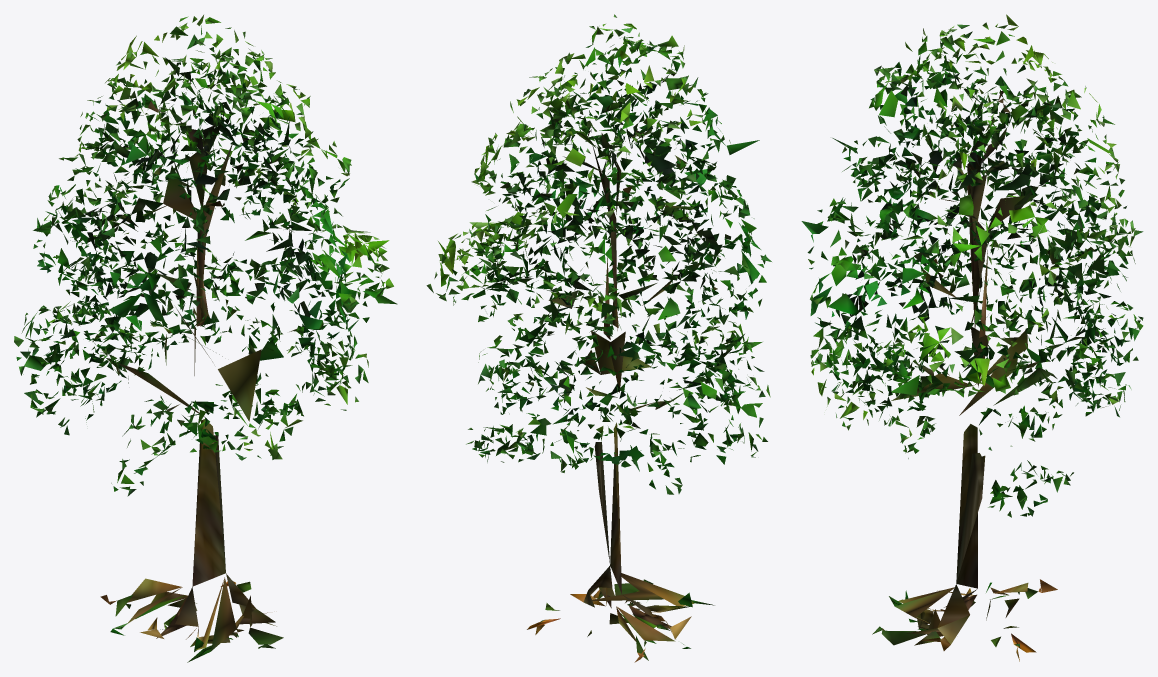
The model's file is meshy-tree-m0.glb.
The picture shows the model from 3 angles, left to right: view 1: azimuth 30°, elevation 25°; view 2: azimuth 150°, elevation 25°; view 3: azimuth 270°, elevation 25°; orthographic projection.
Visible parts, largest first — view 1: Mesh_0; view 2: Mesh_0; view 3: Mesh_0.
Part boxes in pixels (box(x1,y1,x2,y2)): Mesh_0: box(14, 15, 397, 662); Mesh_0: box(426, 14, 771, 662); Mesh_0: box(801, 14, 1143, 661).
Bounding box in the file's own units: 1.1 × 1.92 × 0.9738.
1 material, 1 textured.
